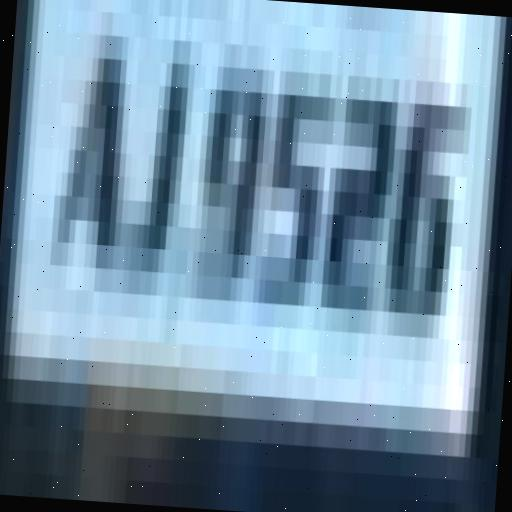number plate: (0, 29, 491, 480)
